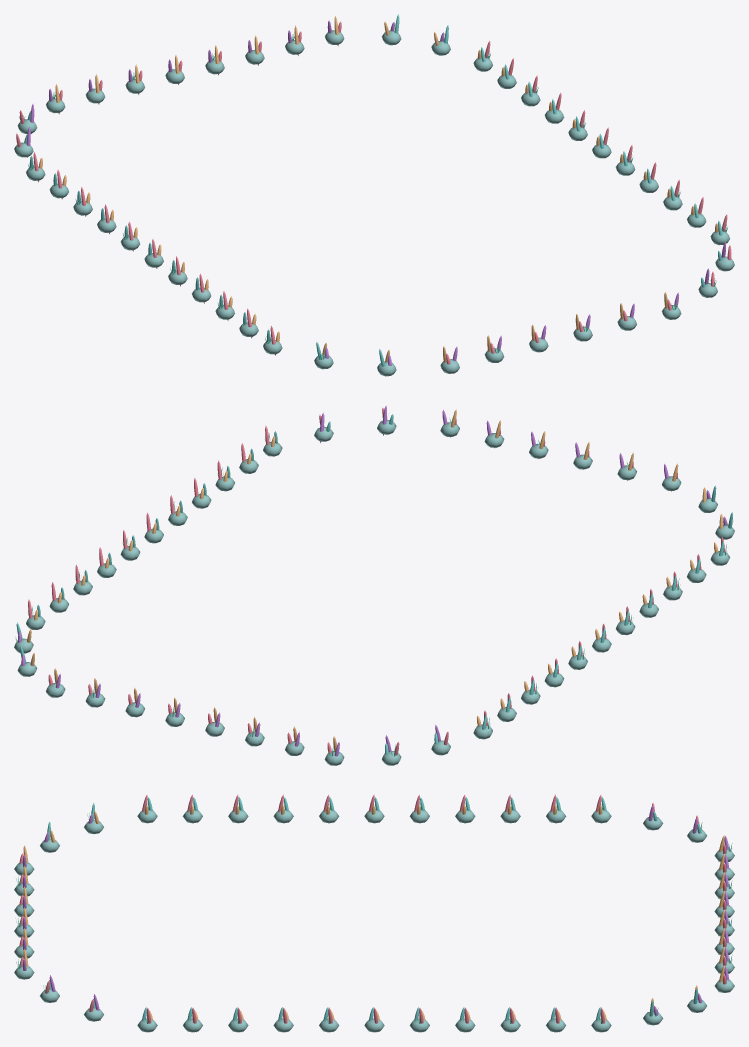
File: reef-16-CNWGvMa2.glb
3 renders of one model, top to bottom at view 1: azimuth 30°, elevation 25°; view 2: azimuth 150°, elevation 25°; view 3: azimuth 270°, elevation 25°, orthographic. The views are drawn at different scales.
Visible parts, largest first — view 1: ReefRock, Coral0, Coral2, Coral3, Coral1; view 2: ReefRock, Coral2, Coral0, Coral3, Coral1; view 3: ReefRock, Coral0, Coral2, Coral3, Coral1.
Part boxes in pixels (<box>): ReefRock: <box>14,30,734,376</box>; Coral0: <box>16,21,731,364</box>; Coral2: <box>38,16,718,362</box>; Coral3: <box>24,14,722,366</box>; Coral1: <box>26,20,725,365</box>; ReefRock: <box>14,420,734,765</box>; Coral2: <box>27,409,723,751</box>; Coral0: <box>28,407,724,755</box>; Coral3: <box>16,414,732,754</box>; Coral1: <box>18,405,727,756</box>; ReefRock: <box>14,809,734,1032</box>; Coral0: <box>19,794,726,1032</box>; Coral2: <box>23,805,724,1020</box>; Coral3: <box>47,797,701,1020</box>; Coral1: <box>22,805,729,1020</box>.
Size of the model in its own units: 35 by 2.06 by 49.1.
